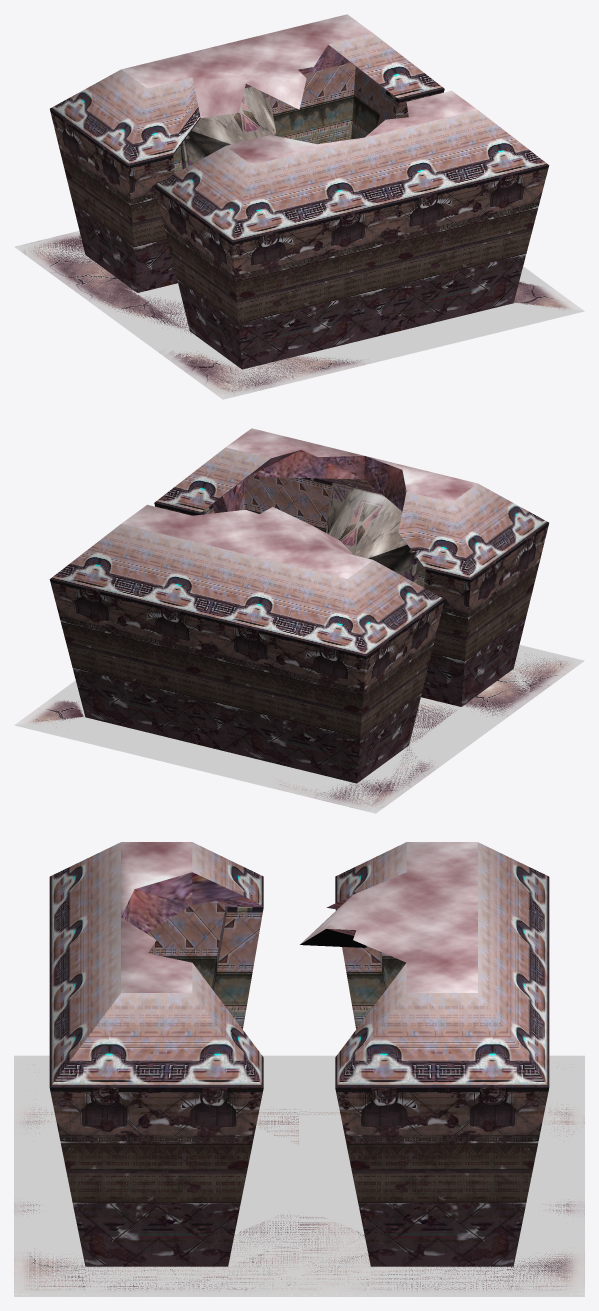
File: bbruin05.FBX
3 renders of one model, top to bottom at view 1: azimuth 30°, elevation 25°; view 2: azimuth 150°, elevation 25°; view 3: azimuth 270°, elevation 25°, orthographic. The views are drawn at different scales.
Parts seen in each view (by area): view 1: bbruin05, roof02, terrain__h, terrain, interior, twoeye, rfedge; view 2: bbruin05, roof02, terrain__h, terrain, oneeye, rfedge, interior, rubble; view 3: roof02, bbruin05, terrain__h, terrain, interior, rfedge.
Boxes of the visible parts, bbox=[...] form: bbruin05: bbox=[50, 89, 549, 369]; roof02: bbox=[50, 14, 548, 242]; terrain__h: bbox=[14, 231, 584, 399]; terrain: bbox=[15, 231, 582, 399]; interior: bbox=[173, 62, 399, 173]; twoeye: bbox=[180, 86, 276, 168]; rfedge: bbox=[245, 44, 396, 97]; bbruin05: bbox=[49, 478, 548, 783]; roof02: bbox=[50, 428, 548, 656]; terrain__h: bbox=[14, 645, 584, 813]; terrain: bbox=[15, 656, 582, 812]; oneeye: bbox=[326, 482, 418, 582]; rfedge: bbox=[202, 450, 406, 511]; interior: bbox=[199, 476, 425, 587]; rubble: bbox=[212, 476, 248, 513]; roof02: bbox=[49, 842, 549, 1087]; bbruin05: bbox=[50, 1087, 548, 1266]; terrain__h: bbox=[14, 1055, 584, 1296]; terrain: bbox=[14, 1055, 584, 1296]; interior: bbox=[147, 901, 405, 1029]; rfedge: bbox=[121, 872, 356, 935].
Size of what is drawn, in the model's own units: 64 by 64 by 33.16.
